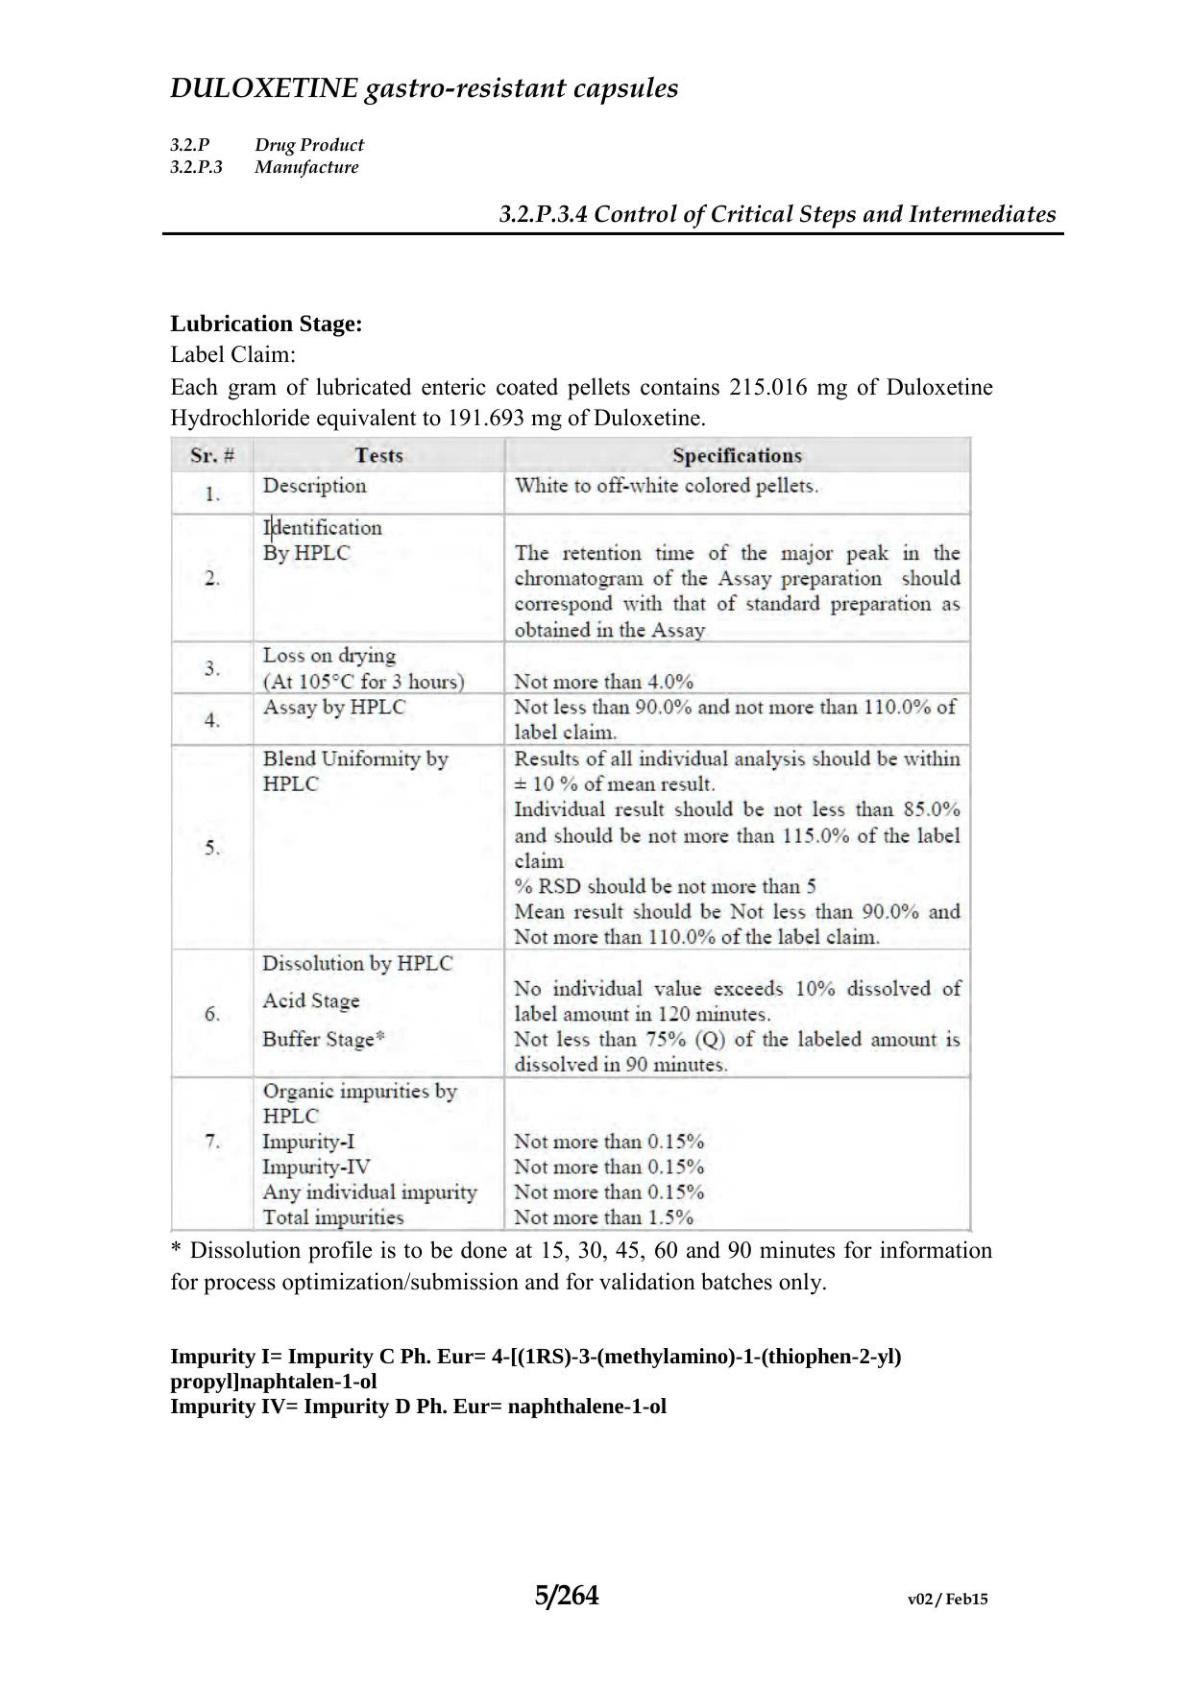full_lined: (169, 434, 971, 1232)
